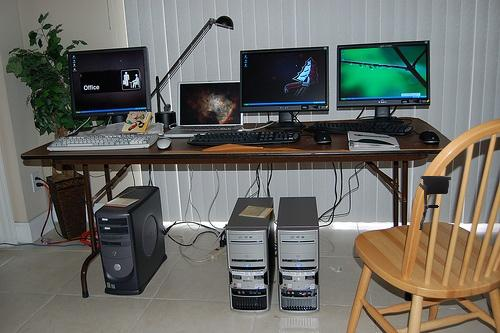tampered: (420, 177, 451, 230)
